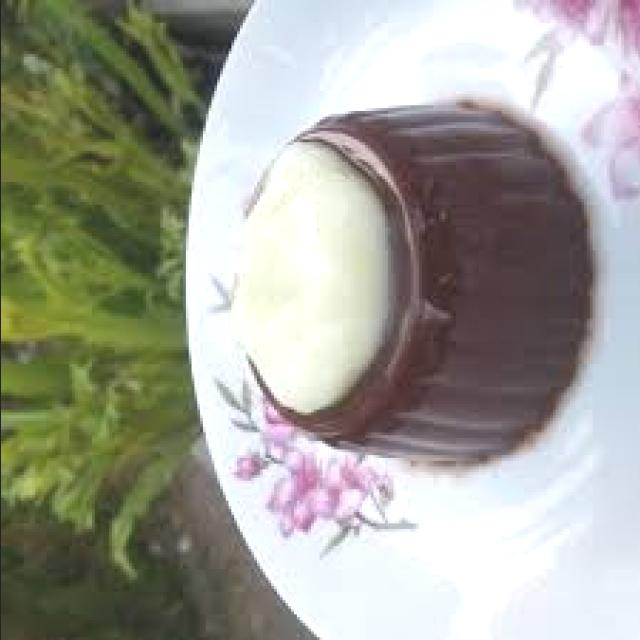puding: (233, 86, 606, 519)
